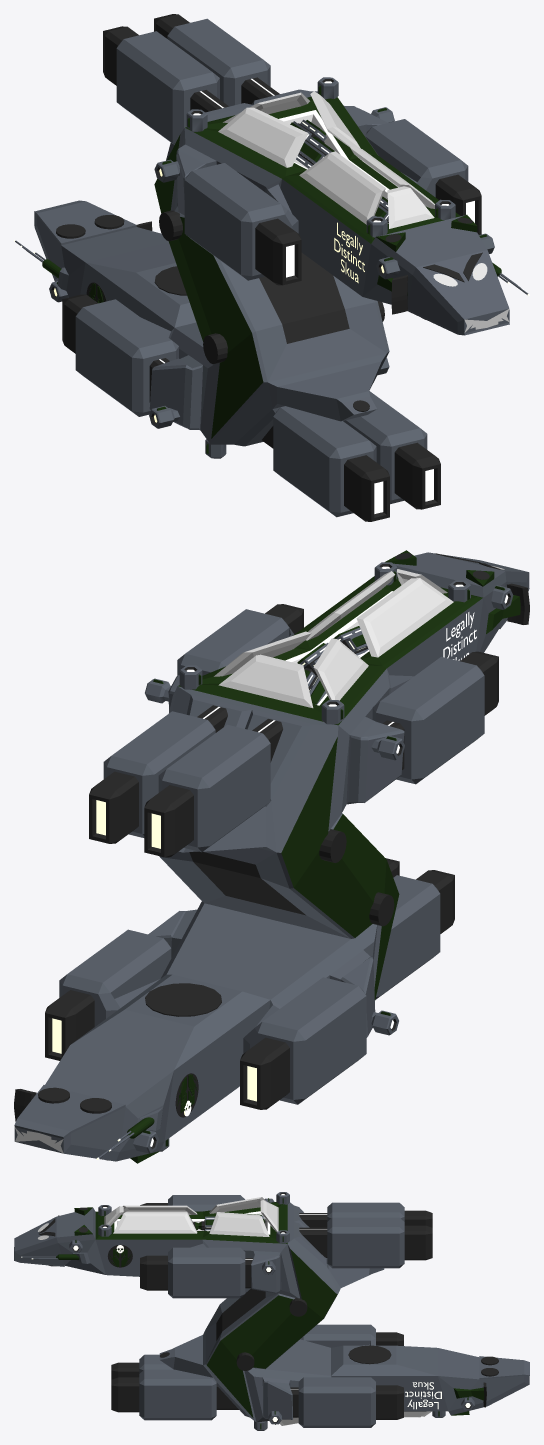
The model's file is 666_ship_heavy_cataphract.glb.
3 renders of one model, top to bottom at view 1: azimuth 30°, elevation 25°; view 2: azimuth 150°, elevation 25°; view 3: azimuth 270°, elevation 25°, orthographic. The views are drawn at different scales.
Parts seen in each view (by area): view 1: 66_ship_heavy_cataphract; view 2: 66_ship_heavy_cataphract; view 3: 66_ship_heavy_cataphract.
Part boxes in pixels (<box>): 66_ship_heavy_cataphract: <box>14,14,529,521</box>; 66_ship_heavy_cataphract: <box>14,550,529,1163</box>; 66_ship_heavy_cataphract: <box>14,1192,529,1430</box>.
Bounding box in the file's own units: 0.3085 × 0.4496 × 1.
